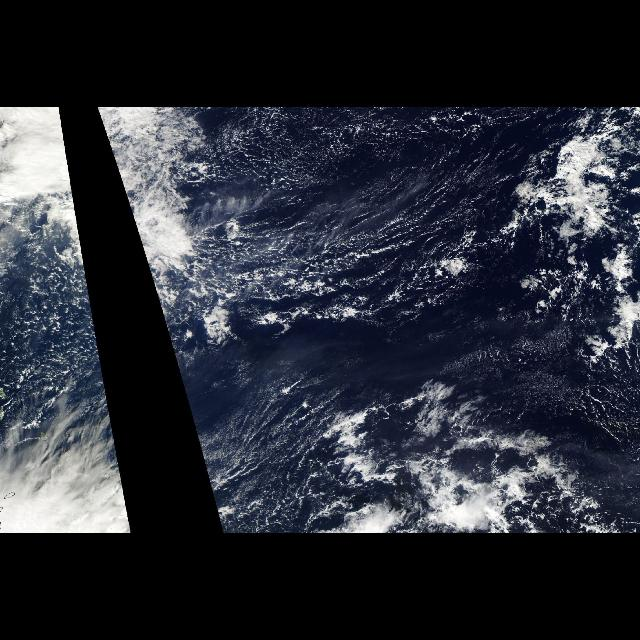Gravel: (206, 117, 504, 193)
